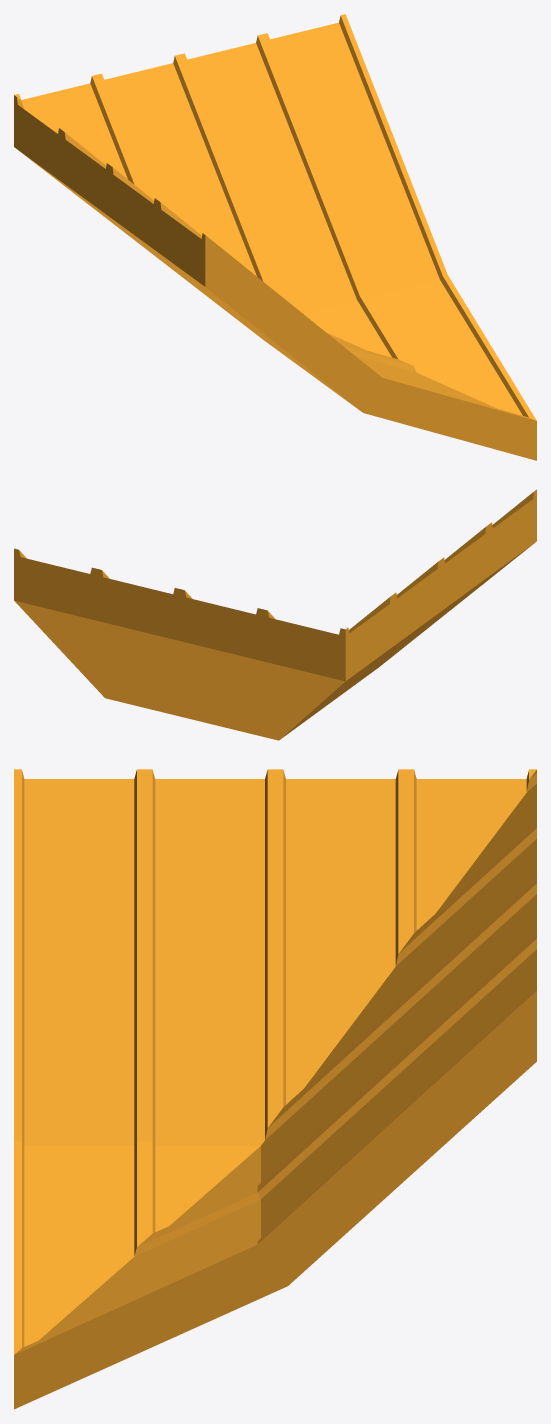
The model's file is SM_Roof_Metal_Moderate_Regular_2x2m_Corner_B.fbx.
3 renders of one model, top to bottom at view 1: azimuth 30°, elevation 25°; view 2: azimuth 150°, elevation 25°; view 3: azimuth 270°, elevation 25°, orthographic. The views are drawn at different scales.
Parts seen in each view (by area): view 1: roof-metal-moderate-regular-2x2m-corner-b; view 2: roof-metal-moderate-regular-2x2m-corner-b; view 3: roof-metal-moderate-regular-2x2m-corner-b.
Part boxes in pixels (box(x1,y1,x2,y2)): roof-metal-moderate-regular-2x2m-corner-b: box(14, 14, 536, 460); roof-metal-moderate-regular-2x2m-corner-b: box(14, 489, 536, 740); roof-metal-moderate-regular-2x2m-corner-b: box(14, 769, 536, 1409).
Bounding box in the file's own units: 2 × 1.77 × 2.
